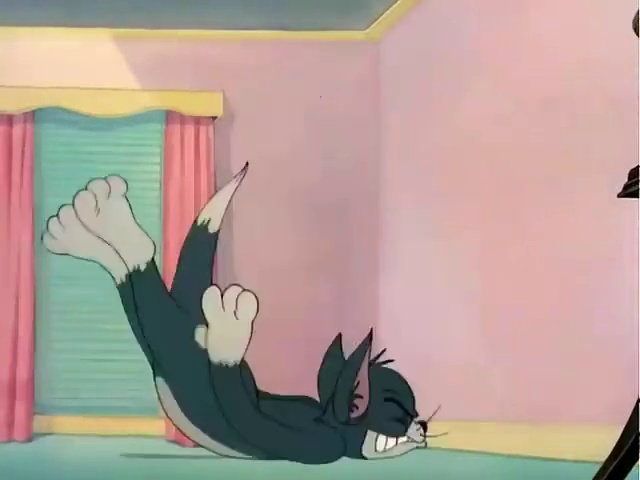tom: (40, 169, 468, 465)
